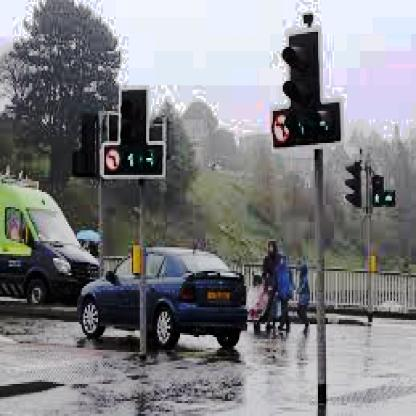No left turn: (272, 112, 291, 146), (102, 148, 120, 174)
